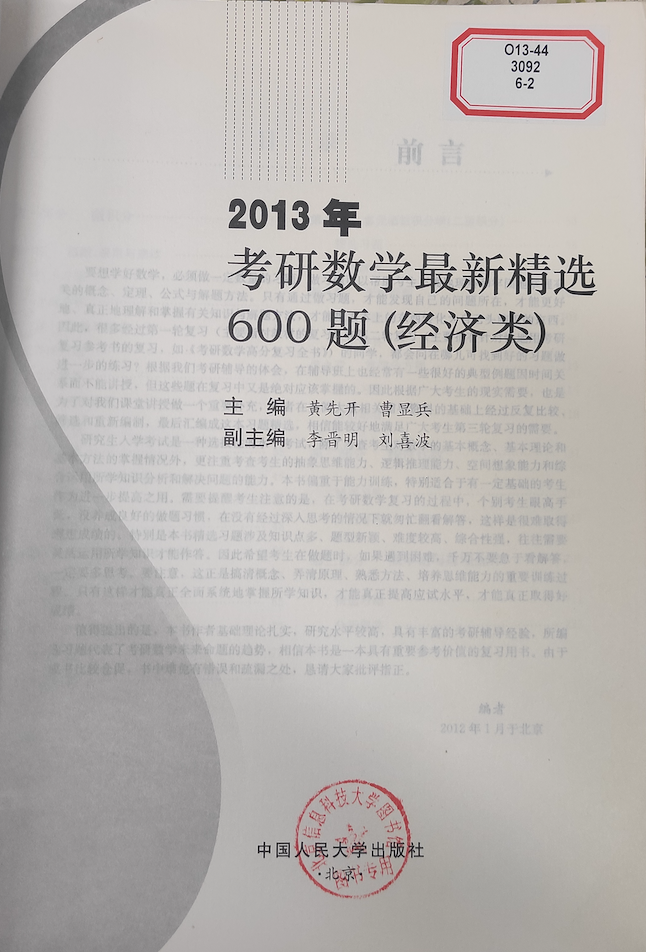Text_area: (216, 182, 596, 478), (445, 9, 637, 123)
